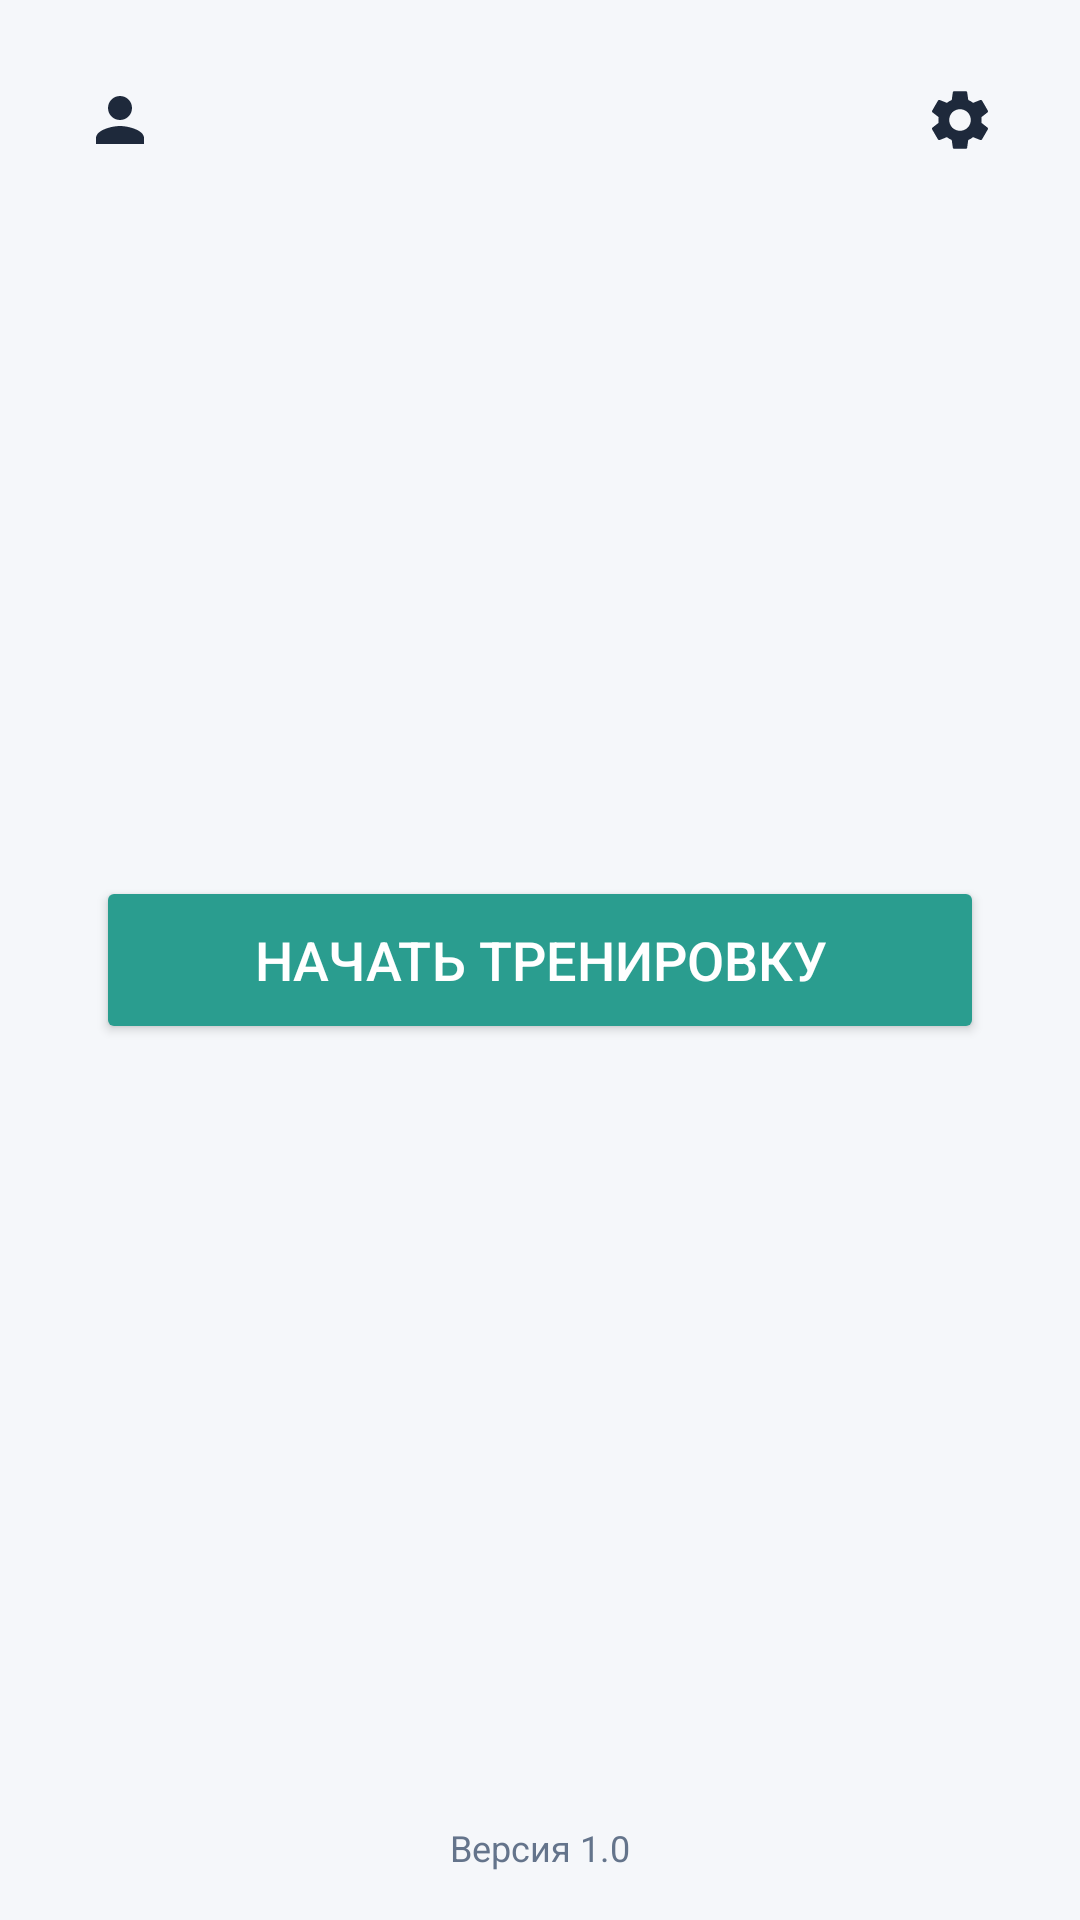

Locate icon controls on the screen. Image size 1080×1920, boxes as [x1,y1,x2,y2].
profile: [96,96,144,144]
Настройки: [932,91,988,149]
